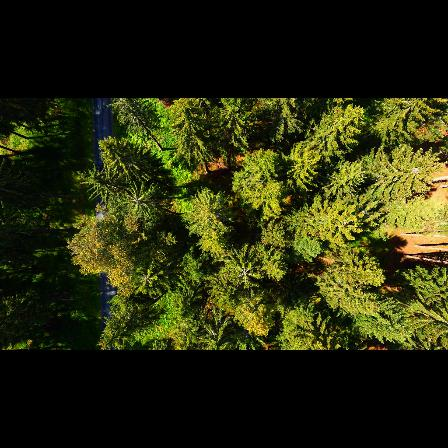Sick: (226, 258, 265, 289), (125, 188, 151, 215), (133, 266, 155, 294)
